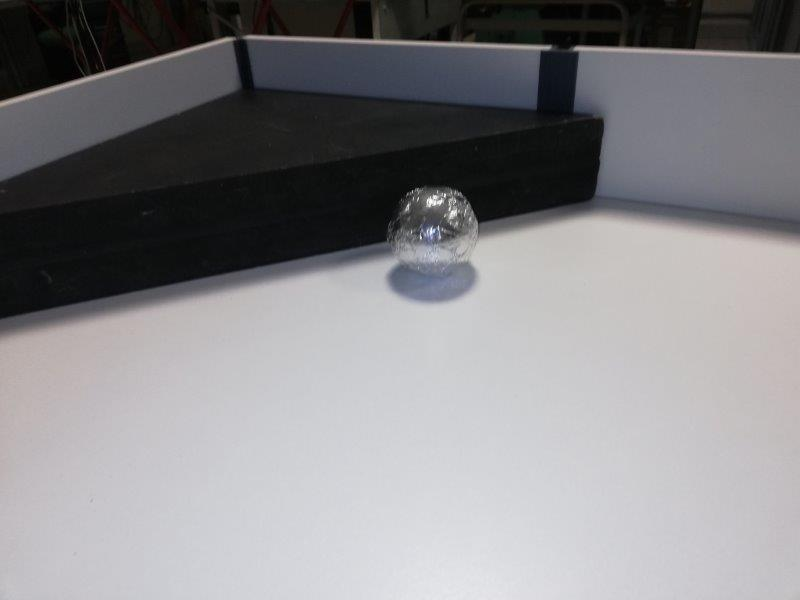bianca: (387, 184, 482, 276)
